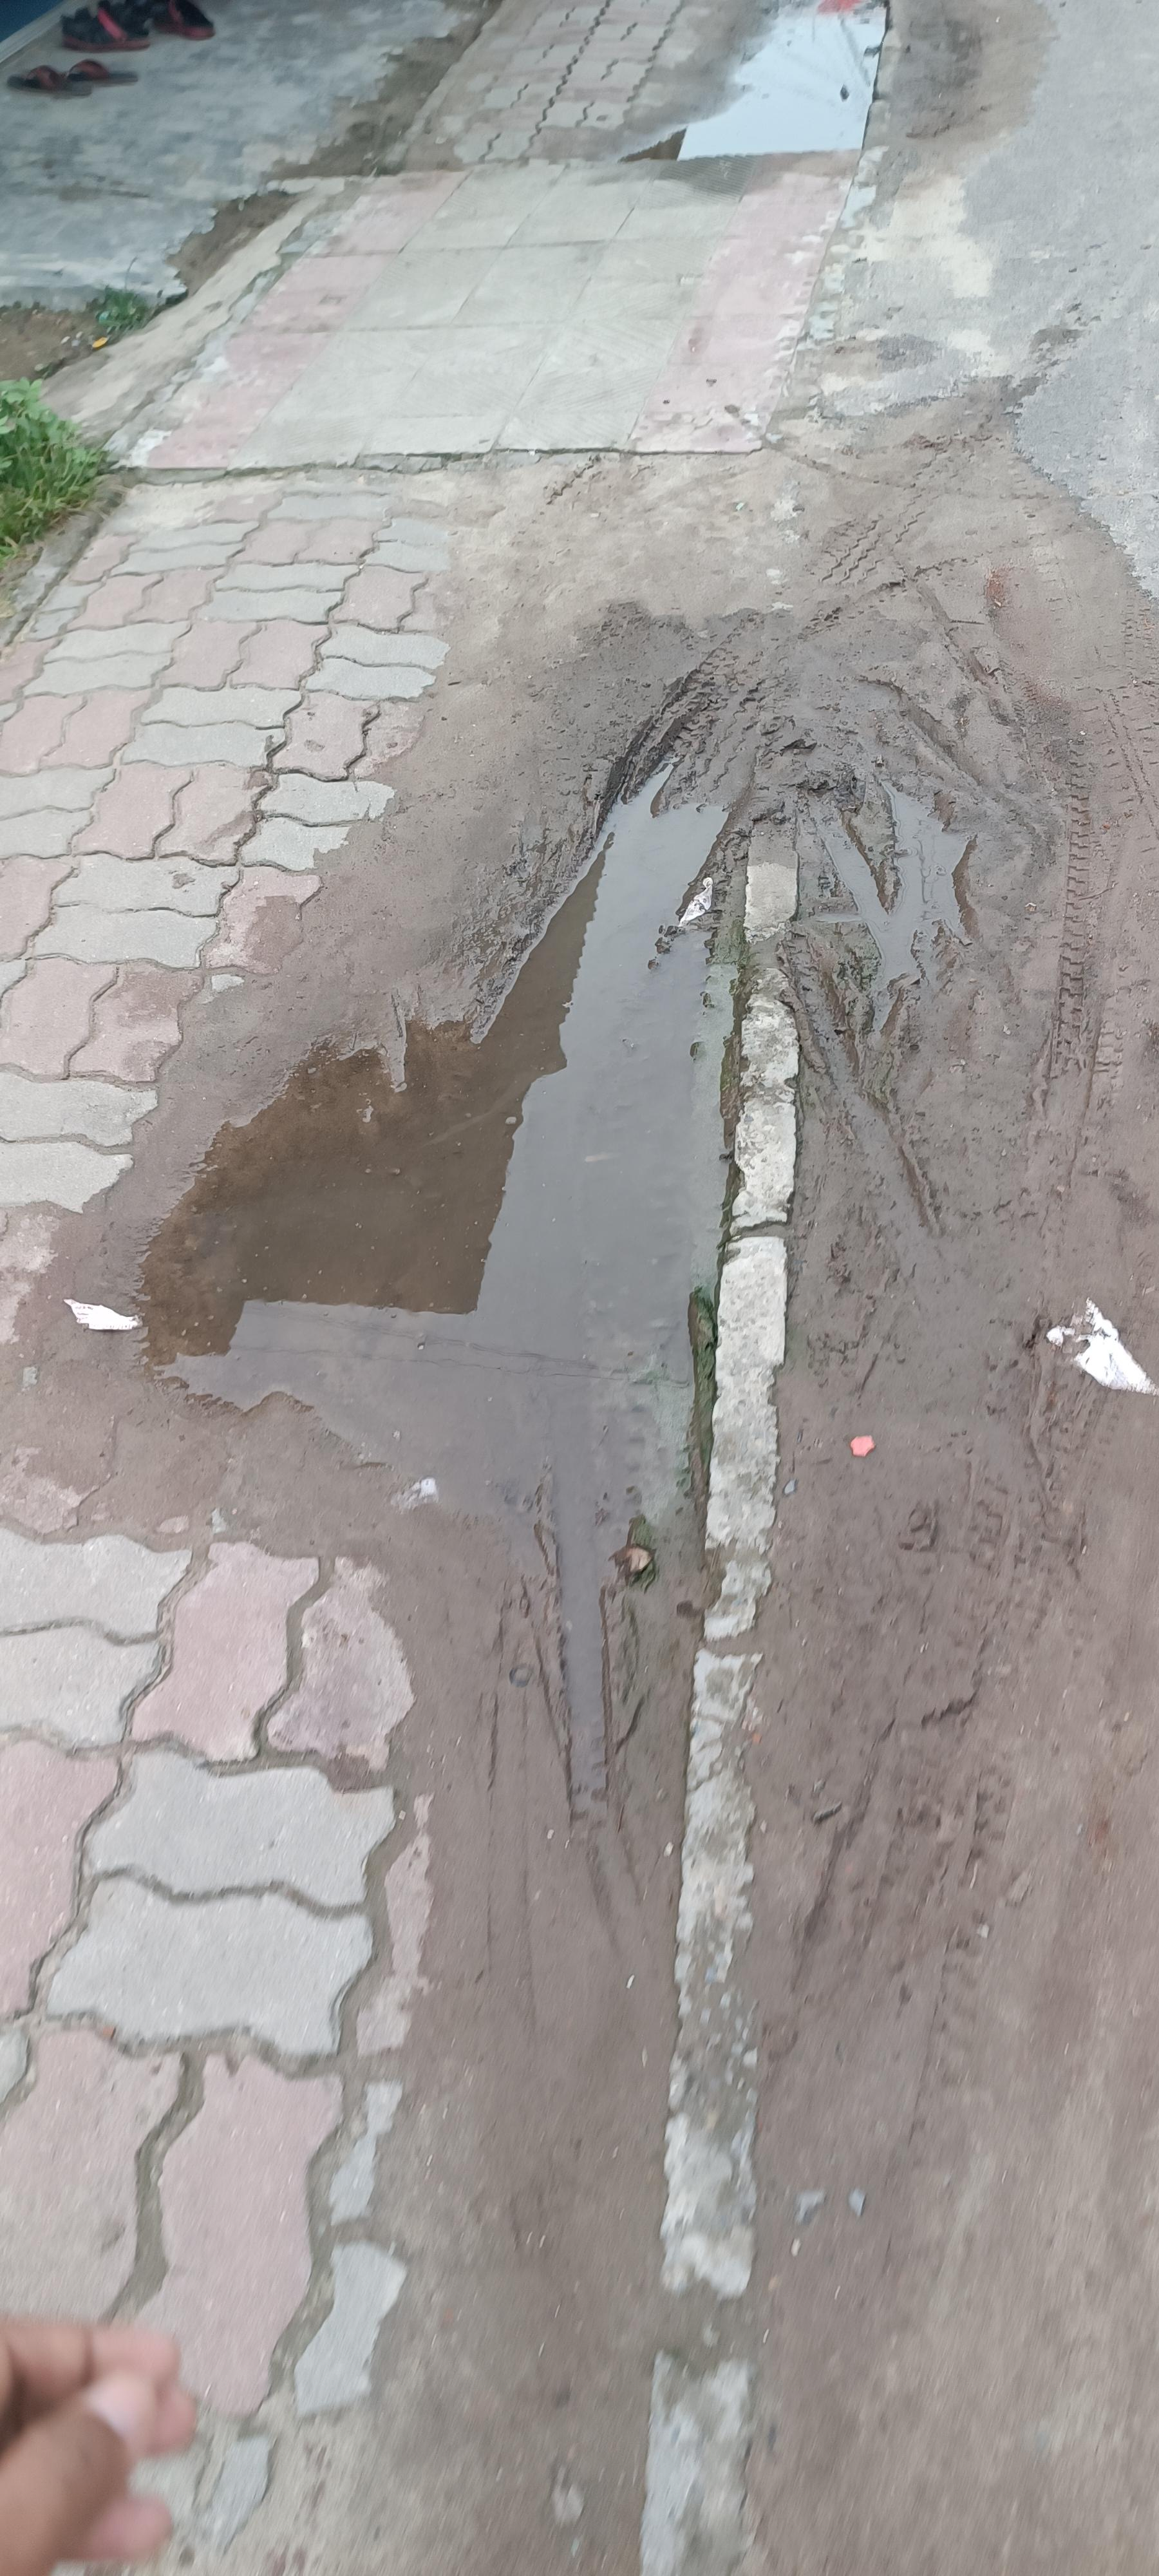Garbage-bin: (2, 2313, 199, 2571)
Pothole: (20, 90, 793, 2576)
Potted-plant: (289, 792, 831, 1623)
